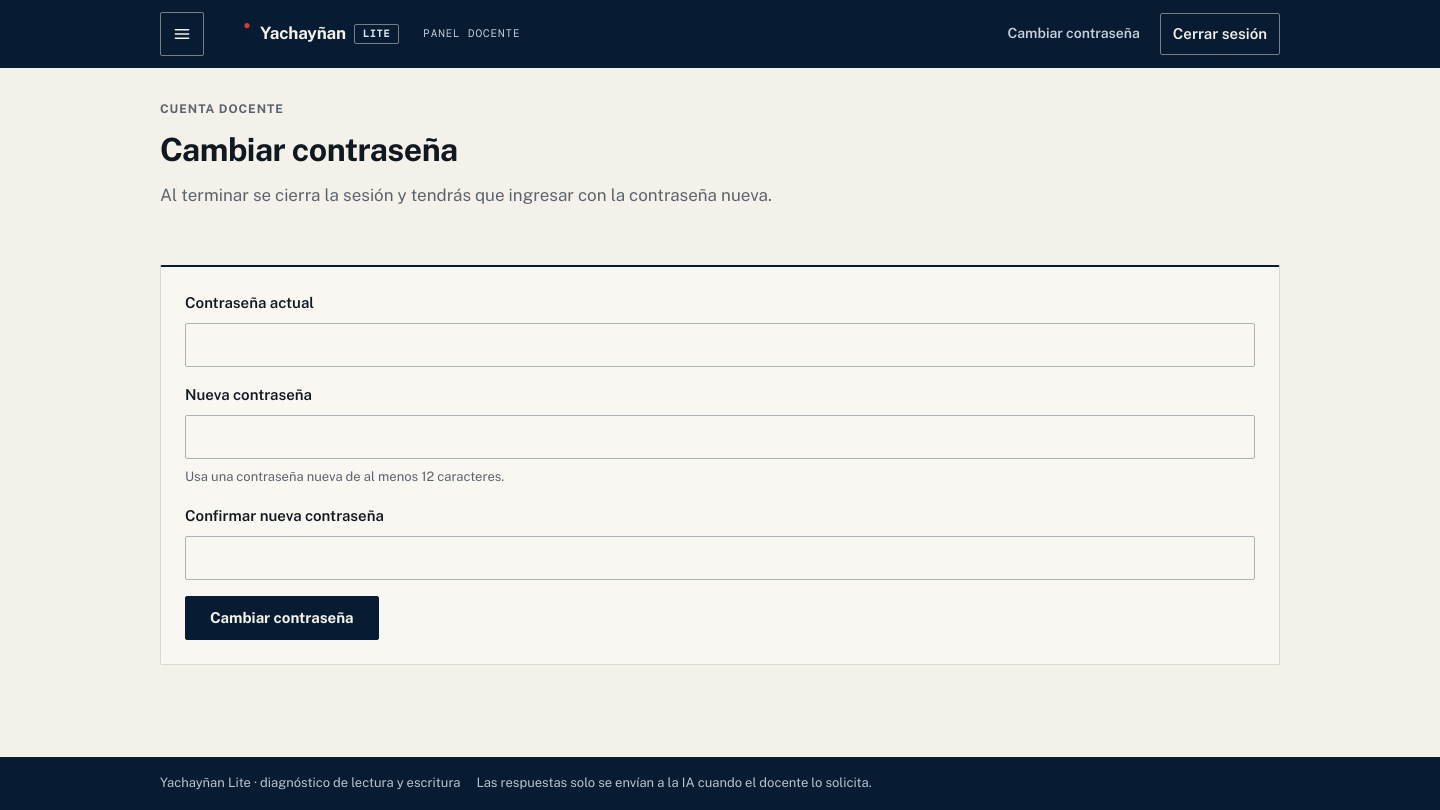
Test: App › rechaza reutilizar la contraseña actual
Expected: the form named "Cambio de contraseña docente" is shown, [185, 291, 1255, 640]
In the password field labelled "Contraseña actual": (720, 345) [185, 323, 1255, 367], type "misma-secreta-2026"
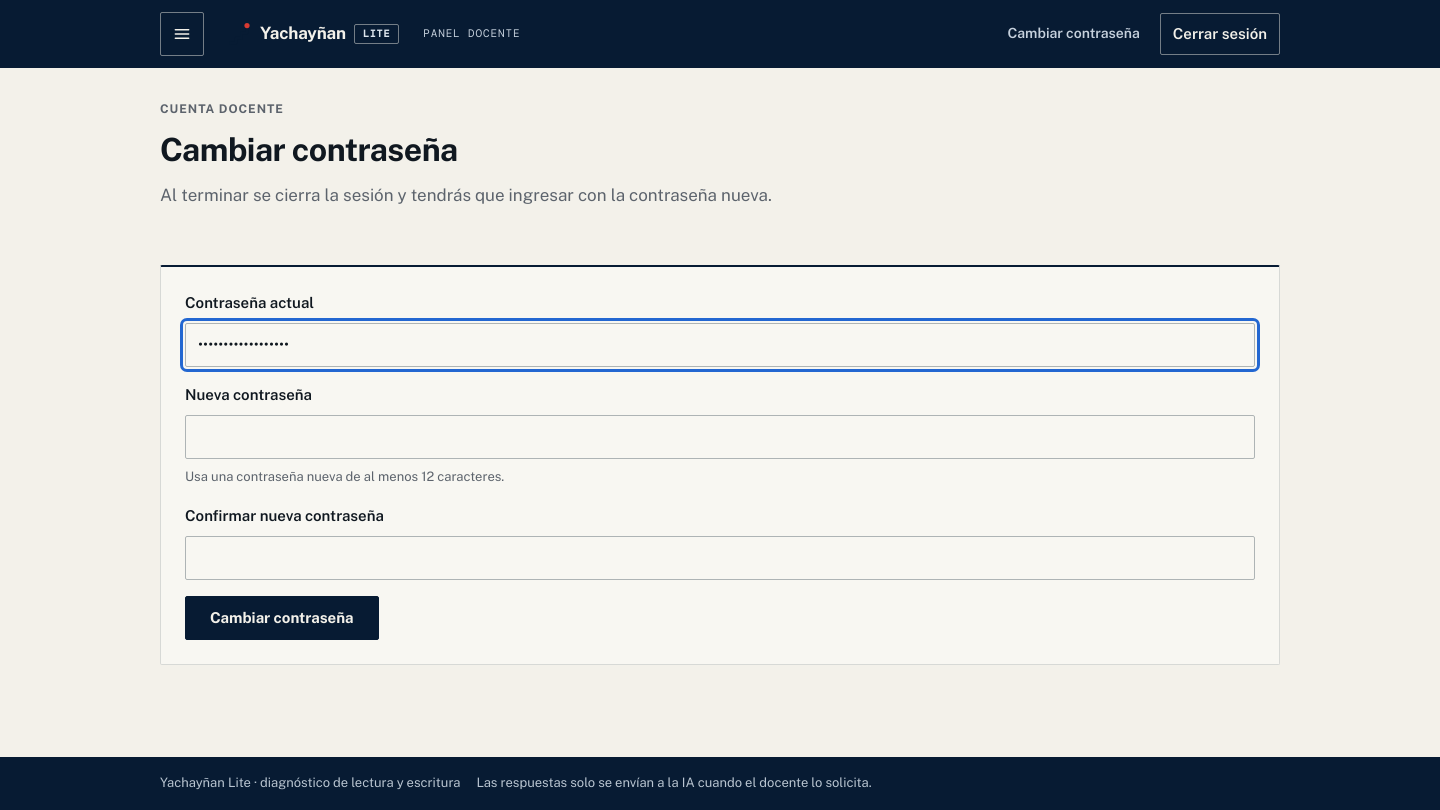
In the password field labelled "Nueva contraseña": (720, 437) [185, 415, 1255, 459], type "misma-secreta-2026"
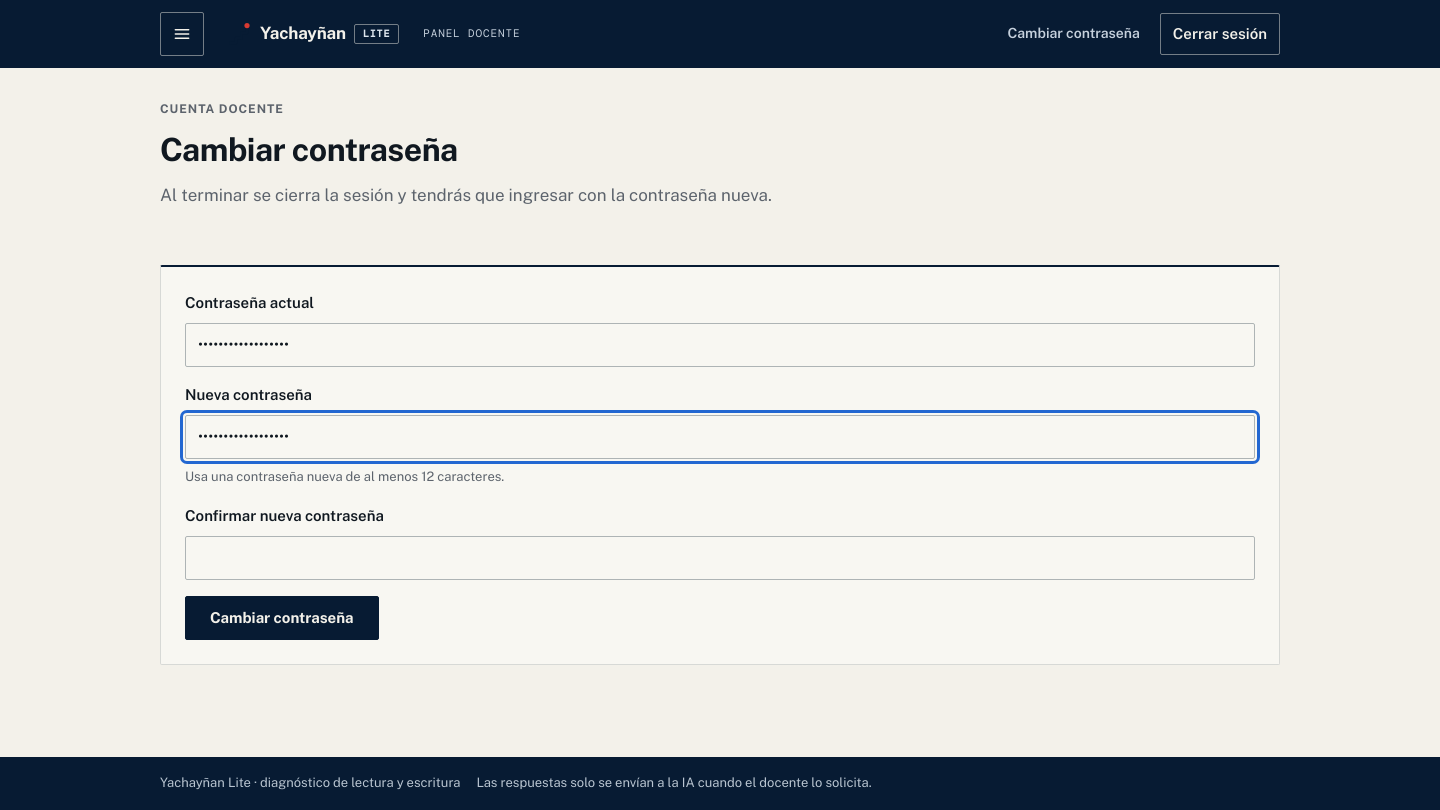
In the password field labelled "Confirmar nueva contraseña": (720, 558) [185, 536, 1255, 580], type "misma-secreta-2026"
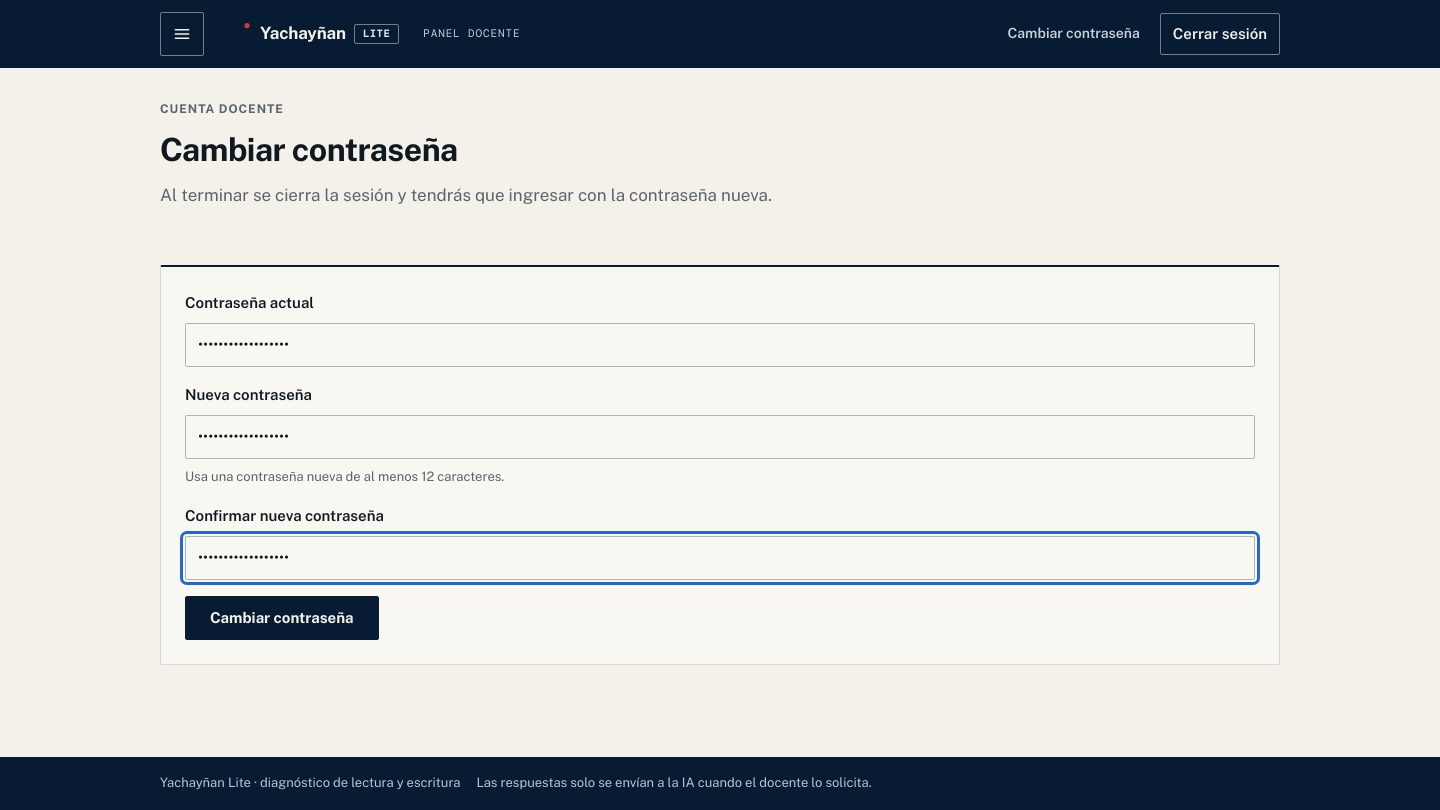
Click the button "Cambiar contraseña": click(282, 618) [185, 596, 379, 640]
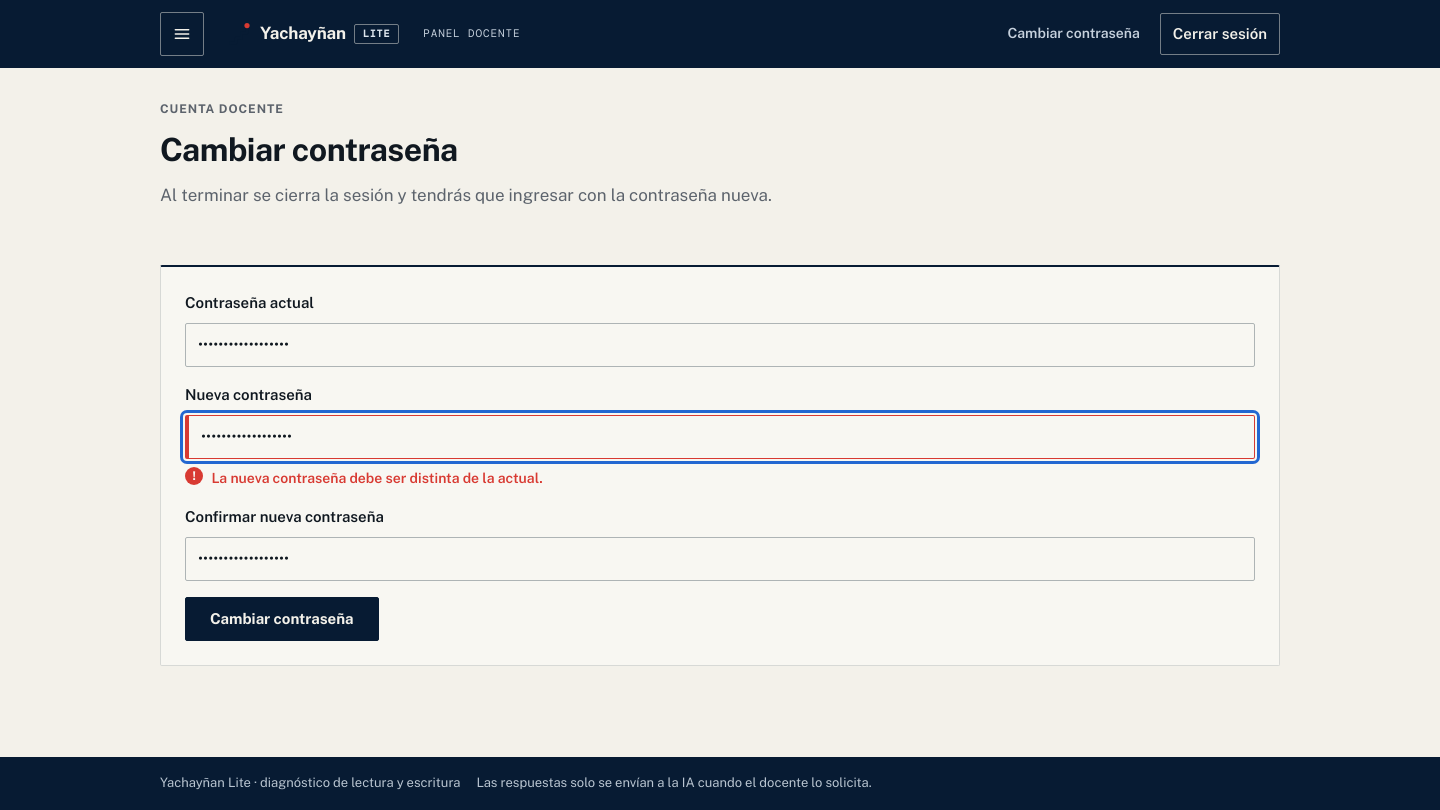
Expected: the text "La nueva contraseña debe ser distinta de la actual." is shown, [211, 470, 543, 486]
